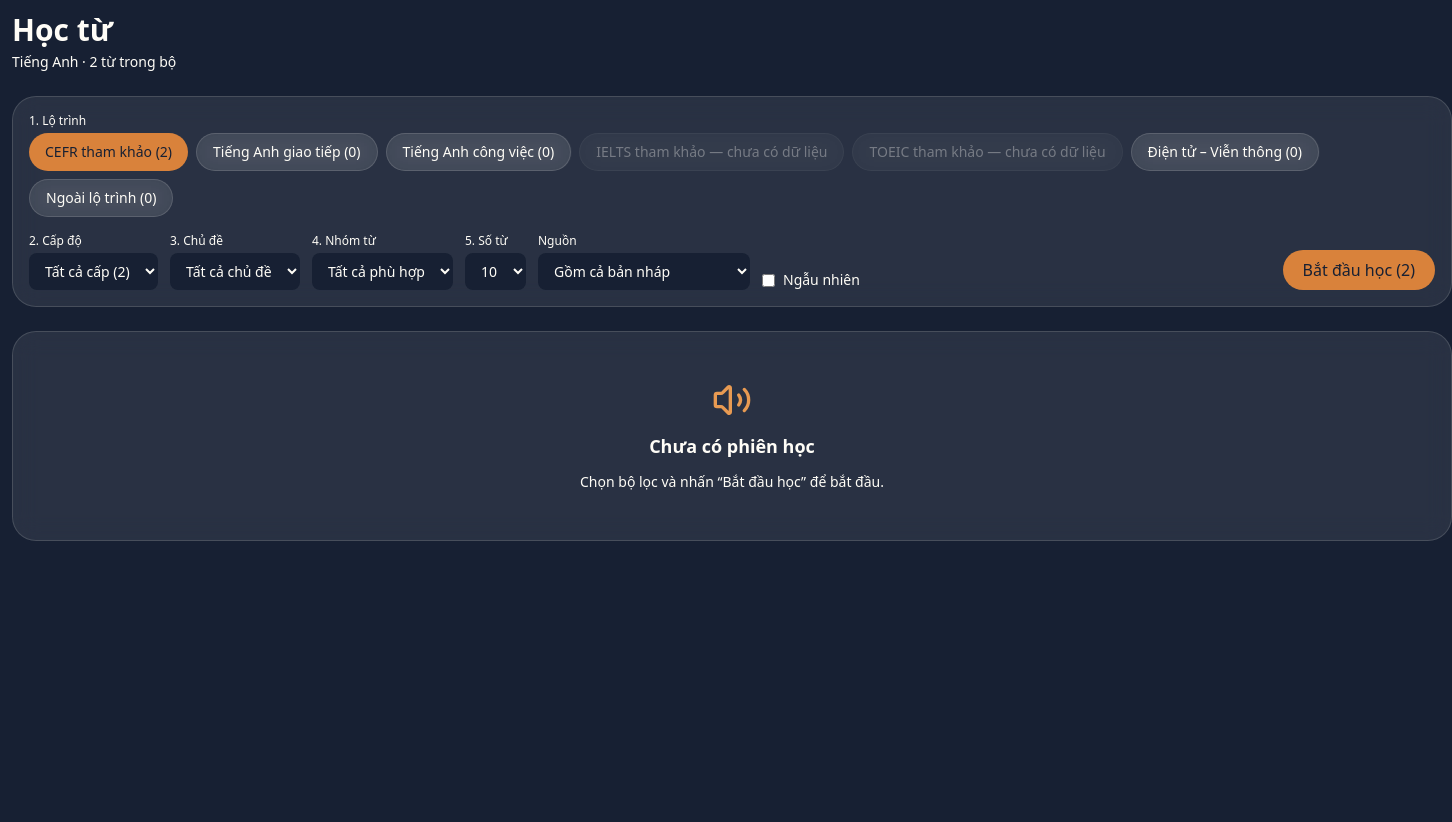
Test: LearningPage — hoàn thành phiên (P0.1) › bỏ qua: không ghi đúng/sai, hiện nhóm Bỏ qua và nút học lại
The image size is (1452, 822).
Click the button "Bắt đầu học (2)".
click(1359, 270)  # box [1283,250,1435,290]
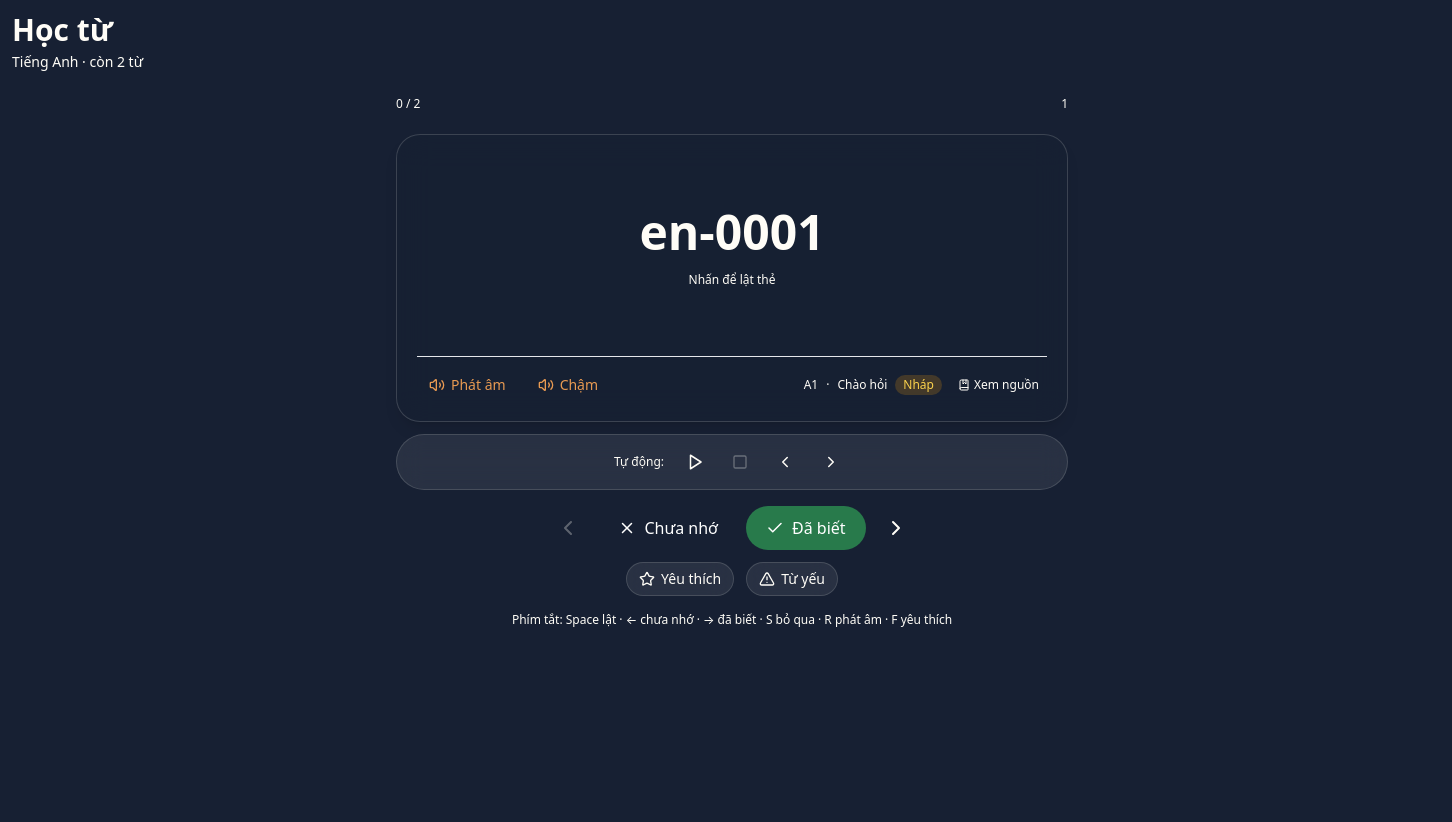
Check: the text "en-0001" is shown, box [639,208,825,256]
Click the button named "Bỏ qua (để lại cuối phiên)".
click(896, 528)  # box [874,506,918,550]
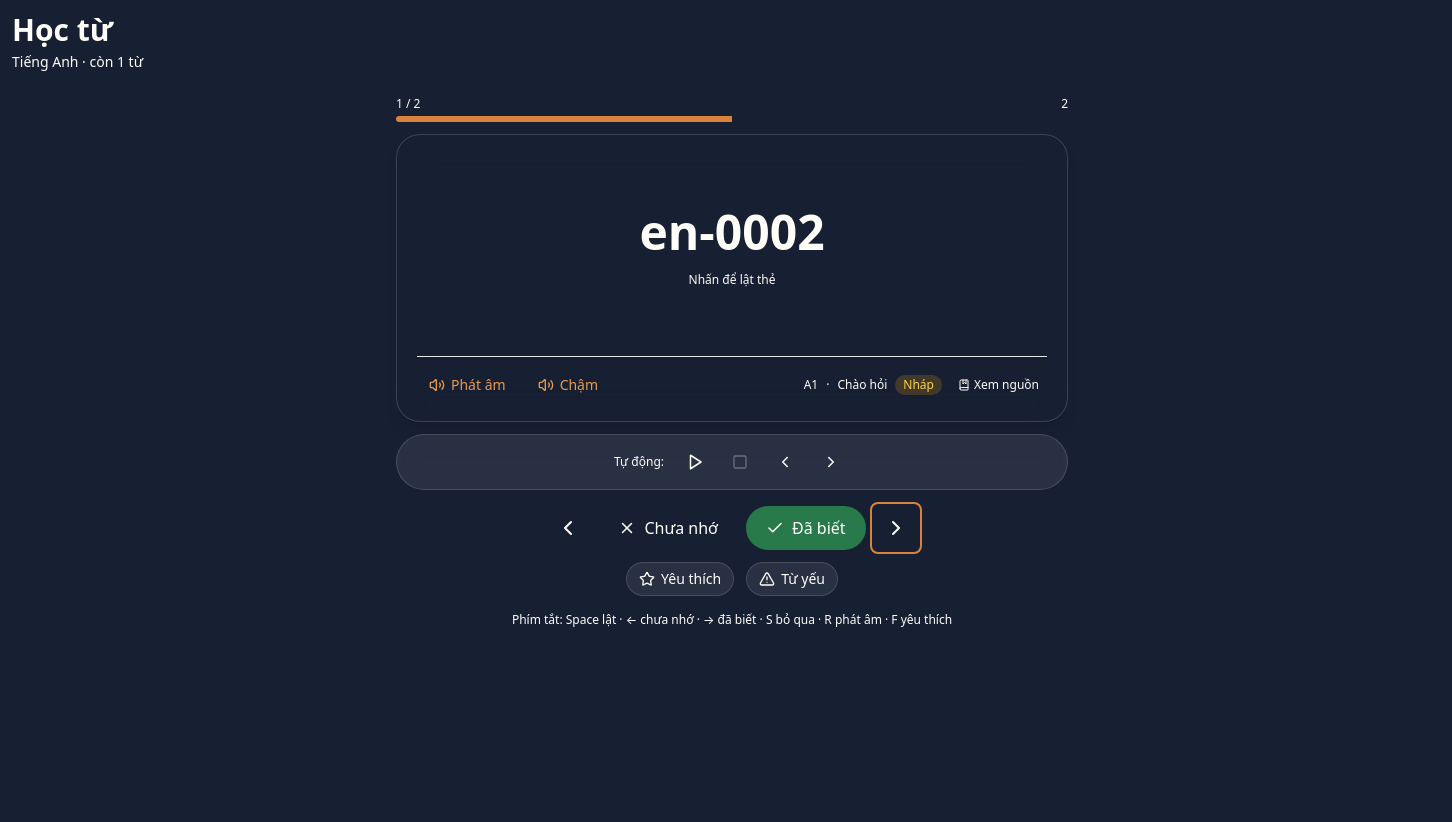
Check: the text "Hoàn thành phiên học 🎉" is not shown
Check: the text "en-0002" is shown, box [639,208,825,256]
Đánh giá thẻ 2 → mọi thẻ đã được xử lý → hoàn thành.
Click the button "Đã biết".
click(806, 528)  # box [746,506,866,550]
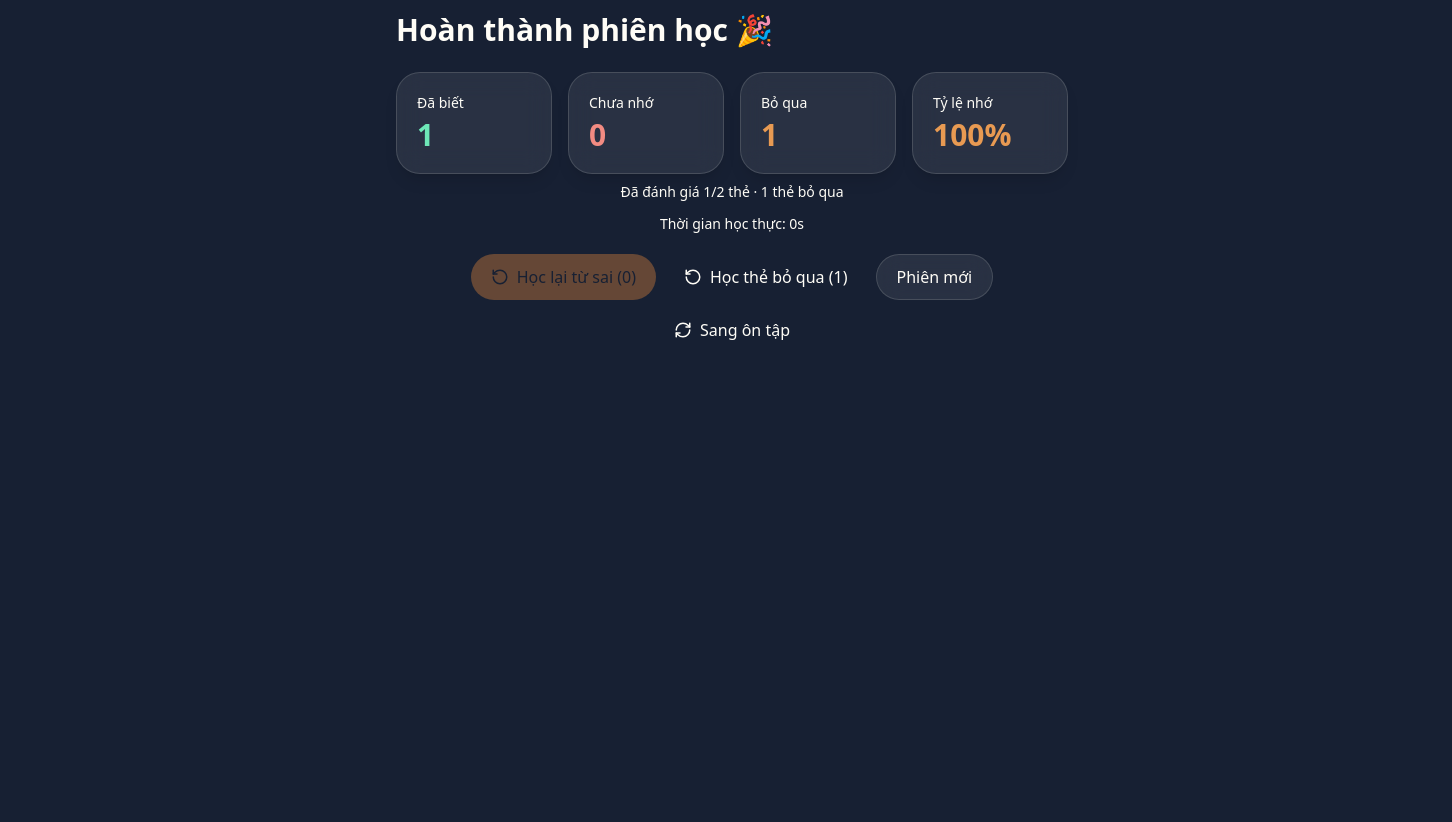
Check: the button "Học thẻ bỏ qua (1)" is shown, box [664,254,868,300]
